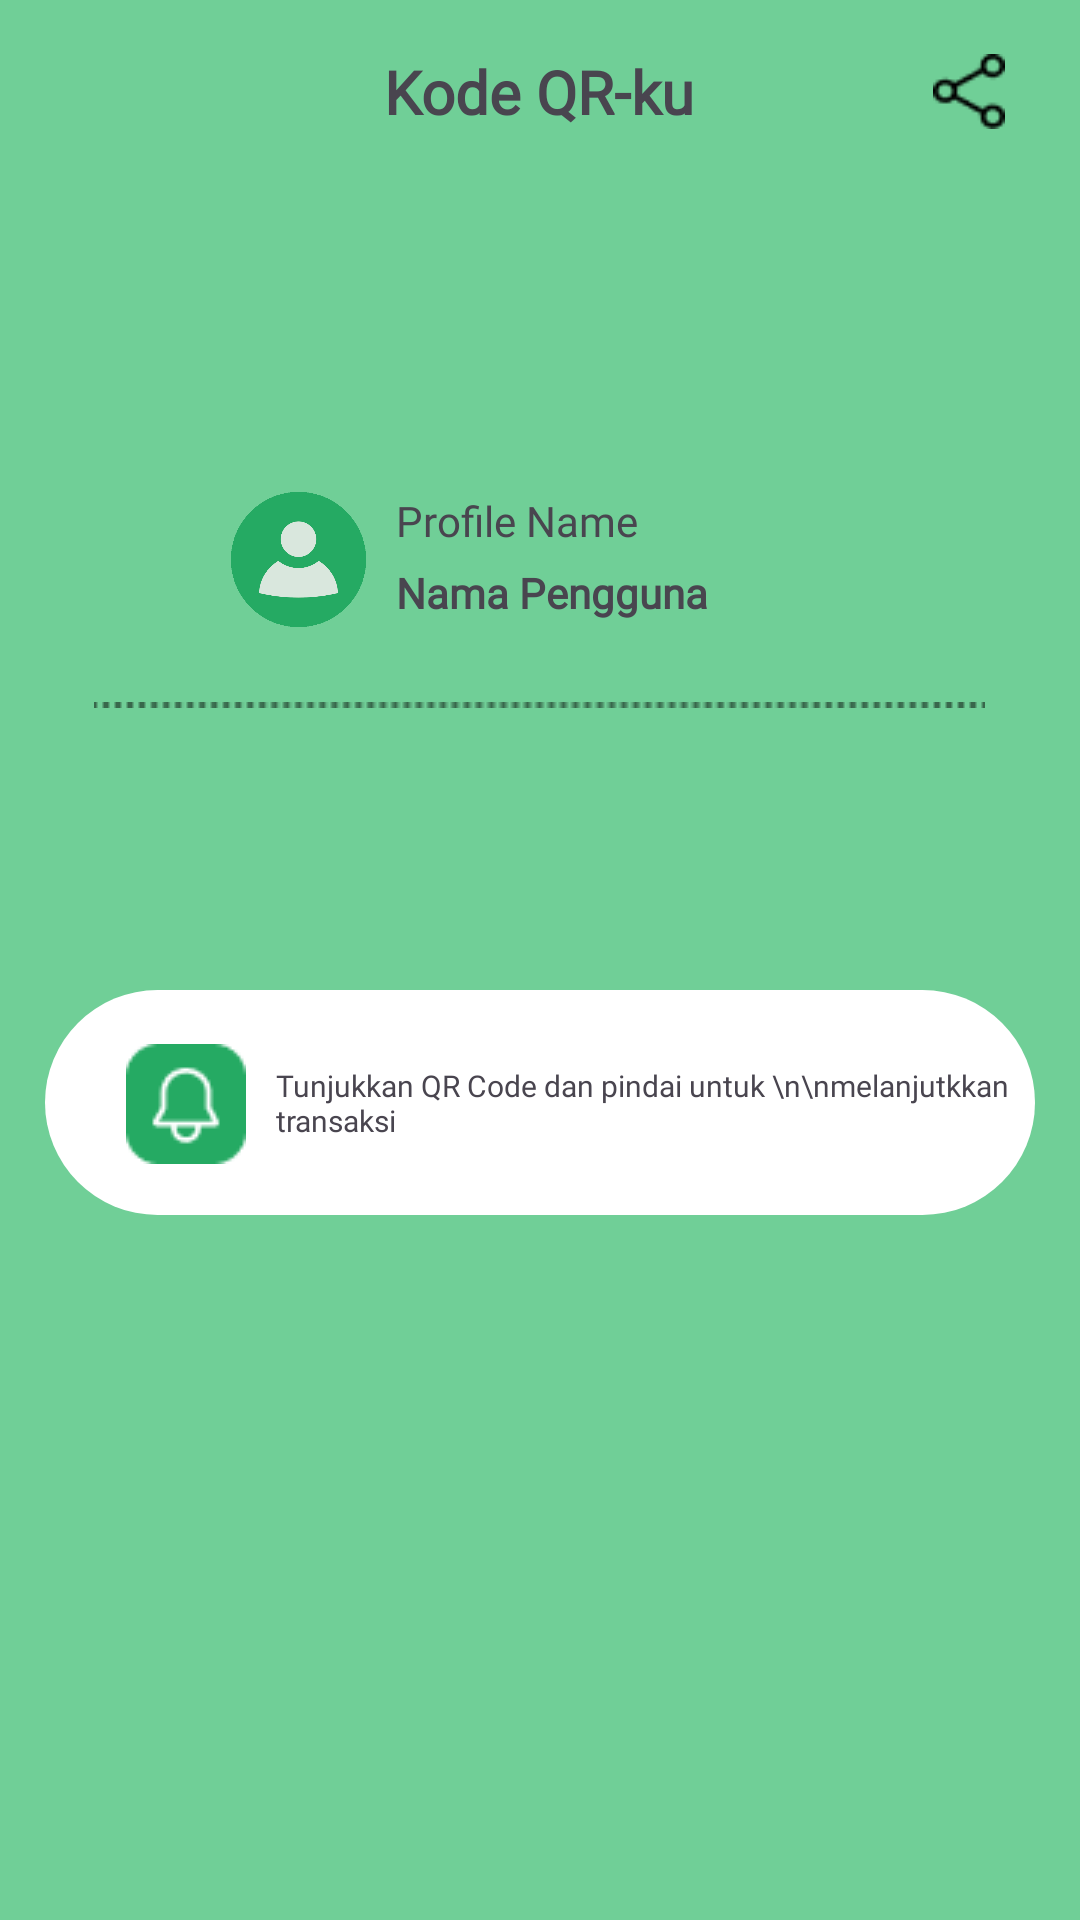

Named icons in this screenshot (1080×1920) and their bounding boxes, (x1, y1, x2, y2):
iconshare: (933, 54, 1005, 129)
notif: (126, 1044, 246, 1164)
user: (231, 492, 366, 627)
